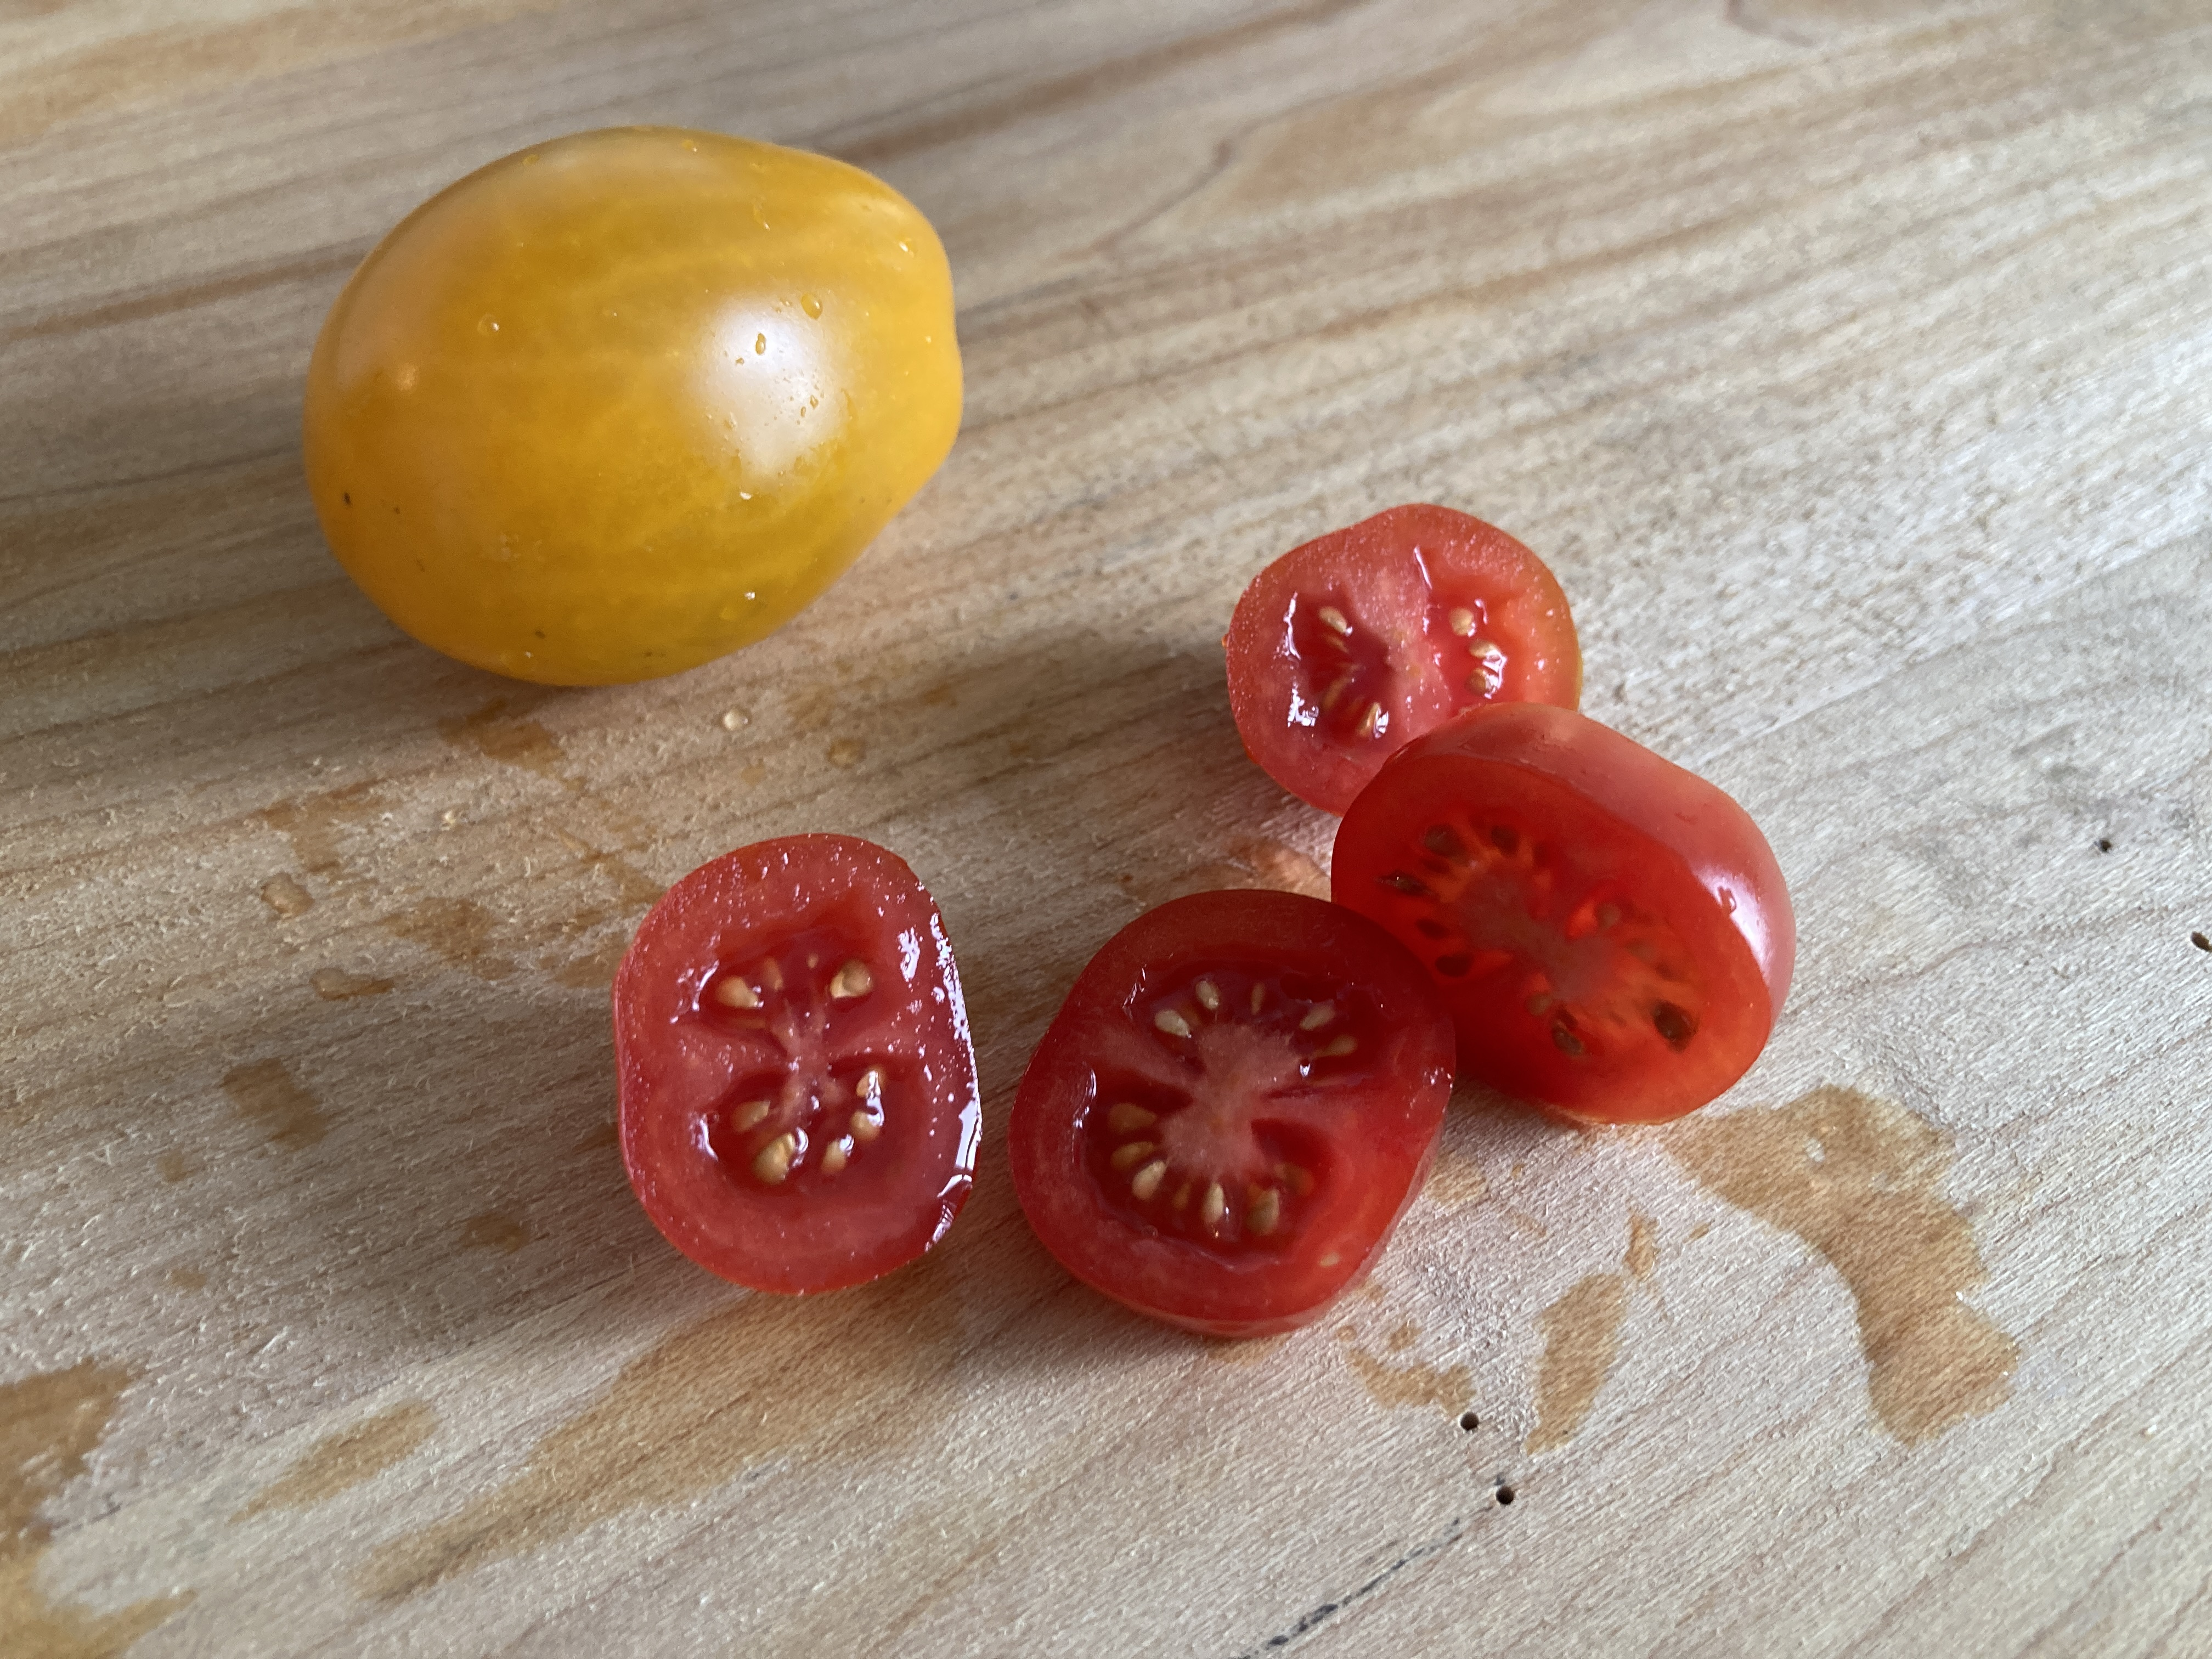healthy-tomato: (296, 124, 954, 692), (1003, 880, 1447, 1338), (1320, 704, 1792, 1127), (604, 828, 982, 1300), (1214, 502, 1583, 807)
